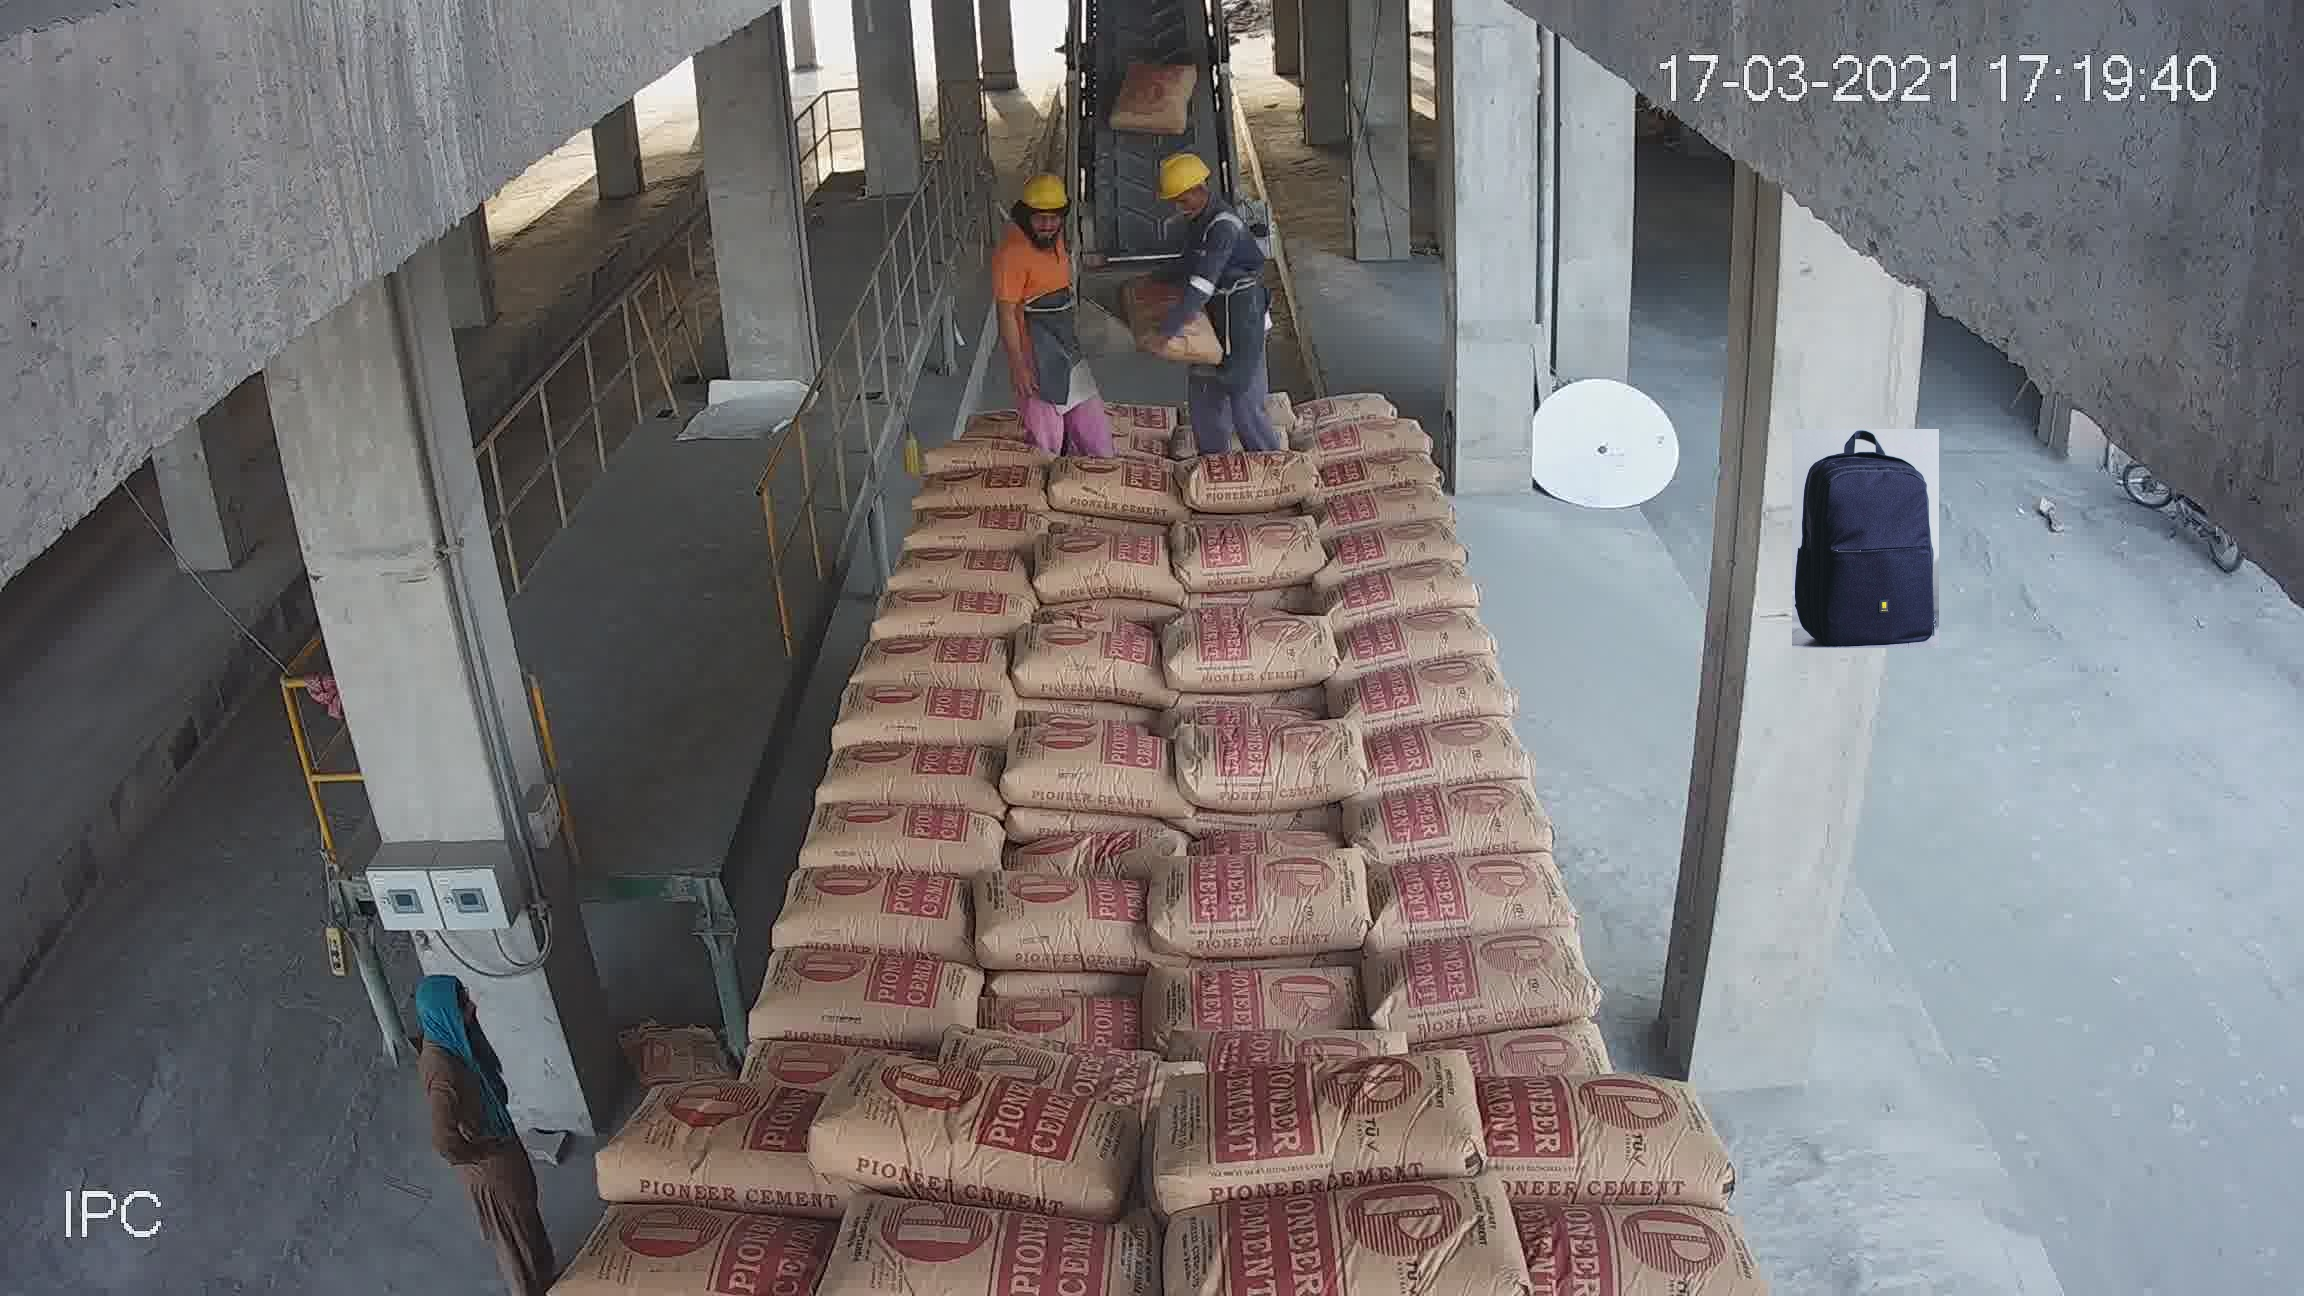bag: (1090, 179, 1225, 312)
bag_h: (801, 1063, 1185, 1195), (1138, 1187, 1525, 1294), (1161, 1054, 1475, 1173), (576, 1065, 820, 1203), (548, 1201, 836, 1296), (1481, 1074, 1715, 1190), (1518, 1187, 1782, 1283), (821, 1201, 1139, 1279), (753, 859, 995, 957), (1155, 945, 1389, 1046), (972, 858, 1192, 965), (1150, 850, 1374, 956), (1359, 938, 1590, 1040), (976, 767, 1195, 870), (1362, 859, 1608, 948), (733, 954, 943, 1055), (964, 942, 1188, 1032), (907, 1040, 1195, 1108), (1124, 775, 1347, 851), (780, 790, 961, 878), (1353, 794, 1560, 870), (1328, 584, 1505, 673), (994, 725, 1188, 799), (1383, 715, 1544, 801), (1355, 658, 1506, 744), (1431, 1002, 1616, 1071), (783, 729, 938, 810), (1065, 661, 1192, 742), (805, 673, 916, 752), (1305, 400, 1448, 460), (1328, 476, 1461, 540), (1029, 623, 1161, 679), (1343, 435, 1465, 491), (1035, 584, 1195, 625), (1339, 517, 1446, 574), (1051, 544, 1166, 597), (1332, 563, 1480, 601), (1328, 377, 1434, 427)
belt: (1032, 33, 1263, 494)
